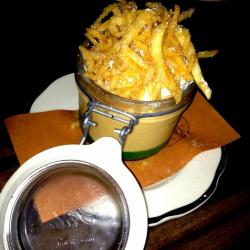fries: (79, 8, 201, 101)
